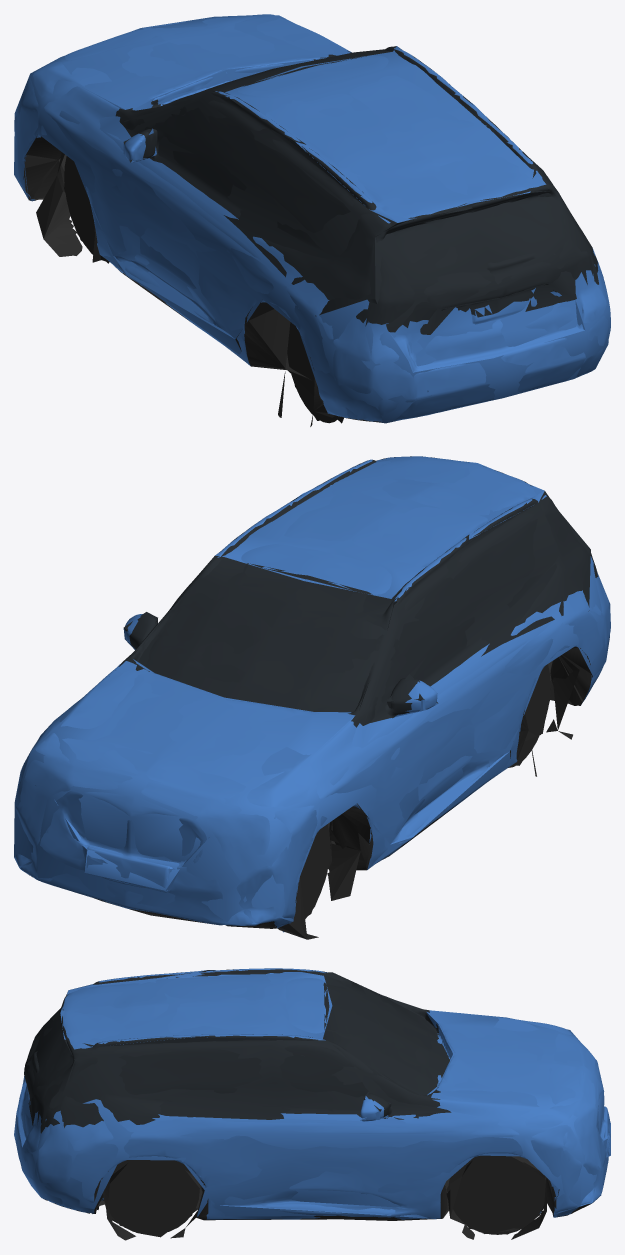
The model's file is bmw-x3.glb.
3 views of the same model, one above another, from view 1: azimuth 30°, elevation 25°; view 2: azimuth 150°, elevation 25°; view 3: azimuth 270°, elevation 25° (orthographic). The views are drawn at different scales.
Visible parts, largest first — view 1: body, far; view 2: body, far; view 3: body, far.
Boxes of the visible parts, x1,y1,x2,y2 form: body: (14, 14, 610, 426); far: (14, 15, 609, 423); body: (15, 456, 610, 939); far: (14, 459, 610, 939); body: (16, 968, 610, 1240); far: (14, 970, 610, 1235).
Bounding box in the file's own units: 2.21 × 1.74 × 4.73.
